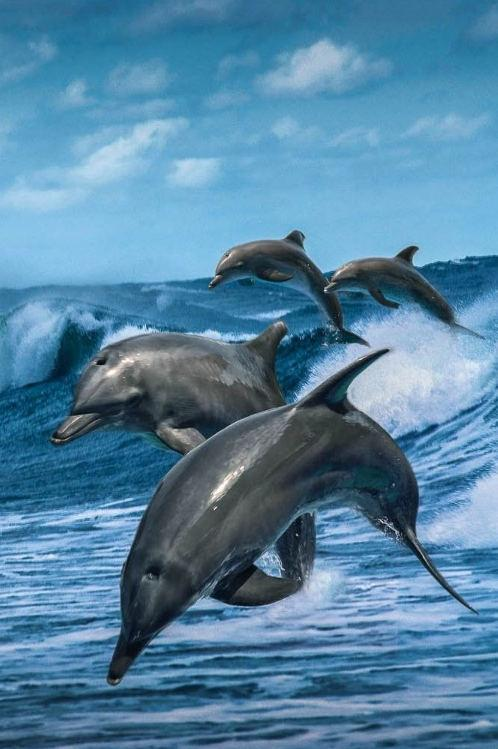fish: (99, 346, 480, 690), (47, 320, 301, 456), (202, 231, 375, 349), (315, 245, 484, 345)
